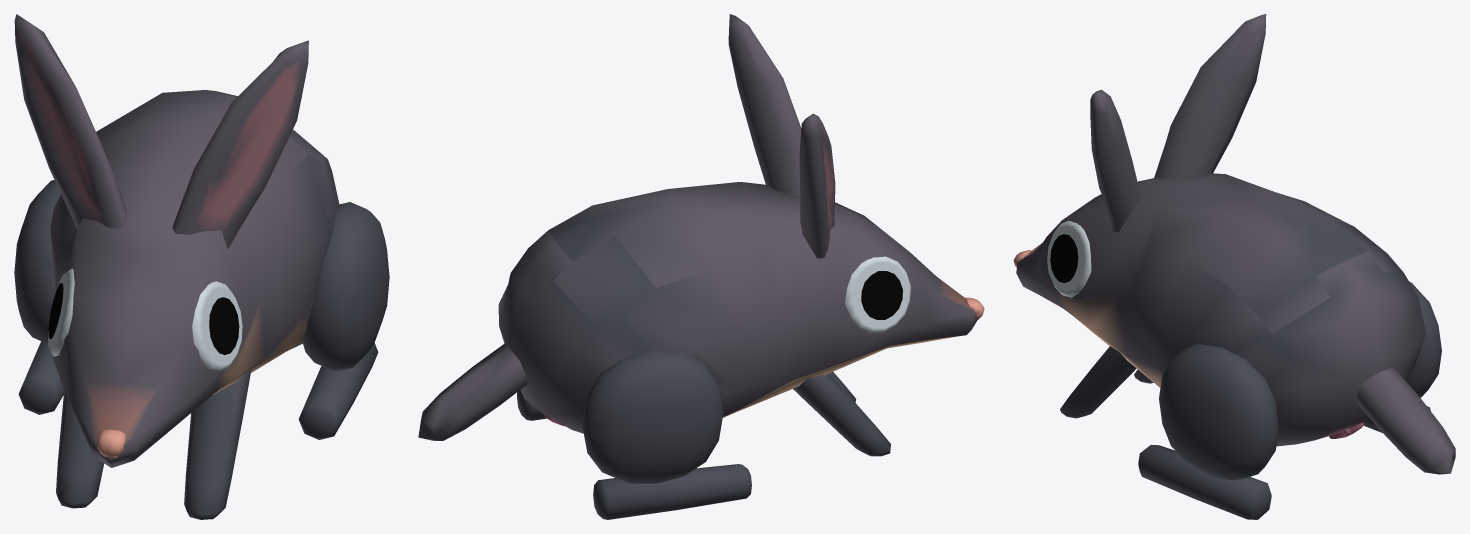
File: Bandicoot.glb
3 views of the same model, side by side, from view 1: azimuth 30°, elevation 25°; view 2: azimuth 150°, elevation 25°; view 3: azimuth 270°, elevation 25° (orthographic). The views are drawn at different scales.
Visible parts, largest first — view 1: 8; view 2: 8; view 3: 8.
Boxes of the visible parts, left/top/right/bottom form: 8: left=14, top=14, right=389, bottom=519; 8: left=418, top=14, right=984, bottom=519; 8: left=1013, top=14, right=1455, bottom=519.
Bounding box in the file's own units: 0.6823 × 0.6839 × 0.7424.
